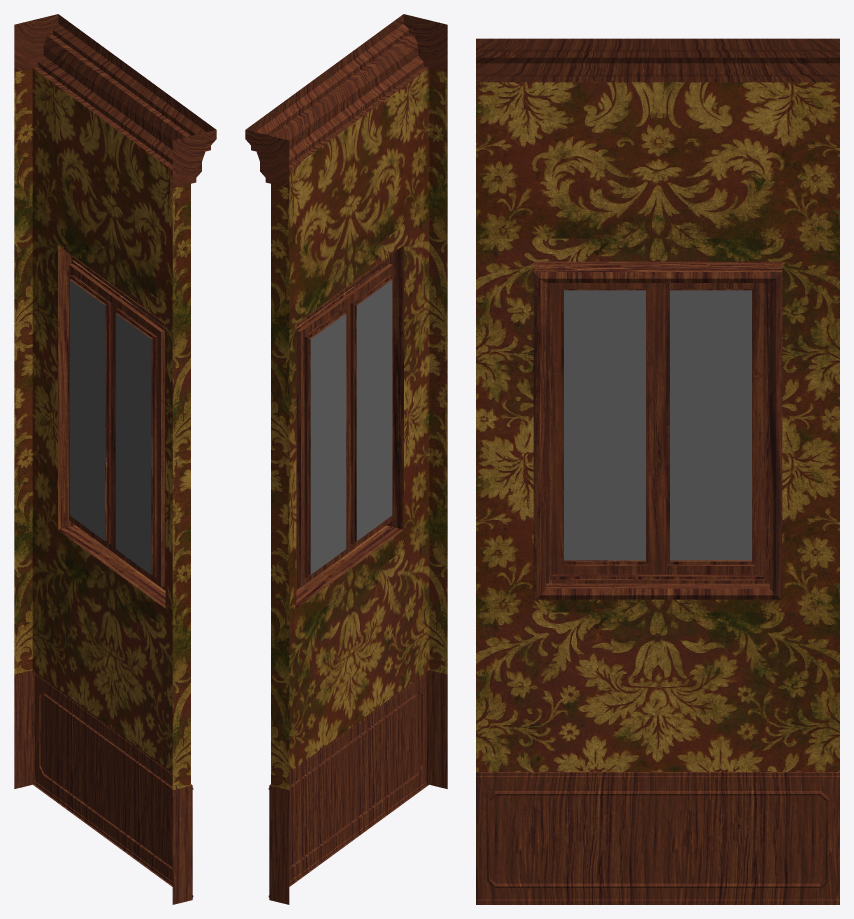
Rendered from Dinding_Jendela_1.fbx.
3 renders of one model, left to right at view 1: azimuth 30°, elevation 25°; view 2: azimuth 150°, elevation 25°; view 3: azimuth 270°, elevation 25°, orthographic. The views are drawn at different scales.
Visible parts, largest first — view 1: Dinding Jendela 1; view 2: Dinding Jendela 1; view 3: Dinding Jendela 1.
Boxes of the visible parts, bbox=[...] form: Dinding Jendela 1: bbox=[14, 14, 216, 904]; Dinding Jendela 1: bbox=[245, 14, 447, 904]; Dinding Jendela 1: bbox=[476, 38, 839, 904].
Bounding box in the file's own units: 24 × 400 × 150.
Materials: 3 (2 with a texture image).
